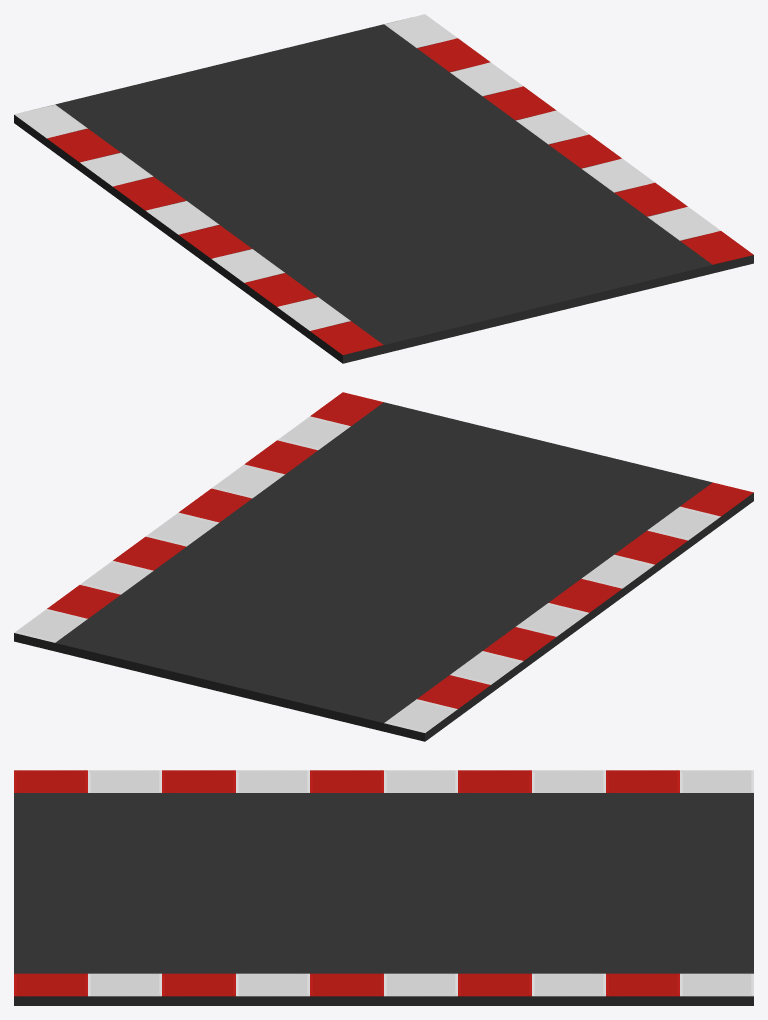
File: track_straight.glb
3 renders of one model, top to bottom at view 1: azimuth 30°, elevation 25°; view 2: azimuth 150°, elevation 25°; view 3: azimuth 270°, elevation 25°, orthographic. The views are drawn at different scales.
Visible parts, largest first — view 1: Straight; view 2: Straight; view 3: Straight.
Part boxes in pixels (box(x1,y1,x2,y2)): Straight: box(14, 14, 753, 363); Straight: box(14, 392, 753, 741); Straight: box(14, 770, 753, 1005).
Bounding box in the file's own units: 10 × 0.23 × 13.86.
